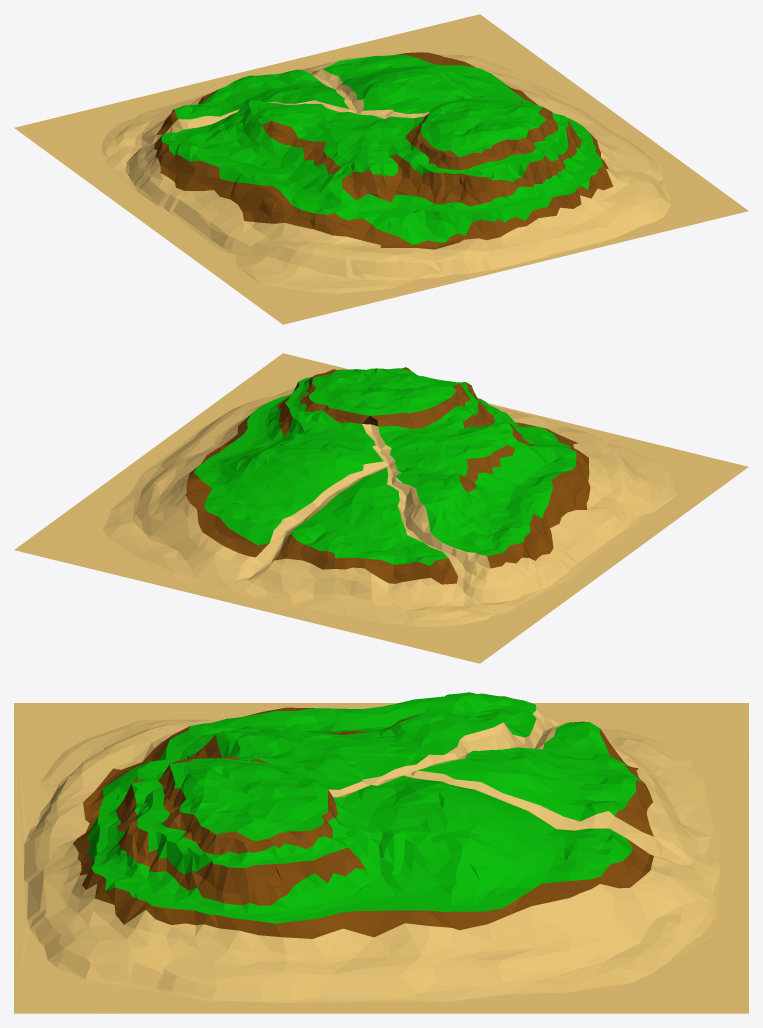
File: TestIsland.glb
3 renders of one model, top to bottom at view 1: azimuth 30°, elevation 25°; view 2: azimuth 150°, elevation 25°; view 3: azimuth 270°, elevation 25°, orthographic. The views are drawn at different scales.
Visible parts, largest first — view 1: Landscape; view 2: Landscape; view 3: Landscape.
Part boxes in pixels (<box>): Landscape: <box>14,14,748,324</box>; Landscape: <box>14,353,748,663</box>; Landscape: <box>14,692,748,1013</box>.
Size of the model in its own units: 2 by 0.314 by 2.
